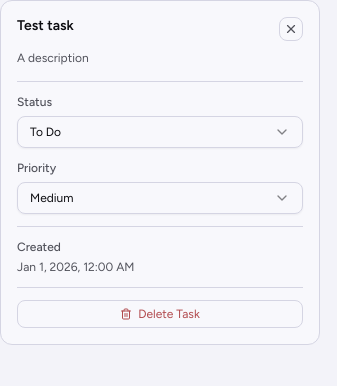
TaskDetailPanel › hides delete confirmation when cancel is clicked
Click the button "Delete Task".
click(160, 314)  # box x1=17 y1=300 x2=303 y2=328
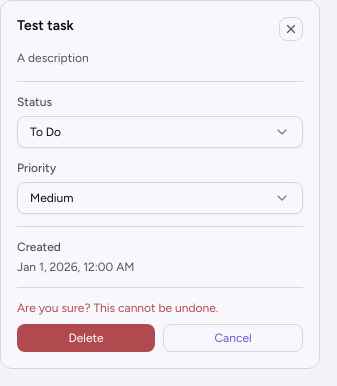
Check: the text "Are you sure? This cannot be undone." is shown, box x1=17 y1=300 x2=218 y2=314
Click the button "Cancel".
click(233, 338)  # box x1=163 y1=324 x2=303 y2=352
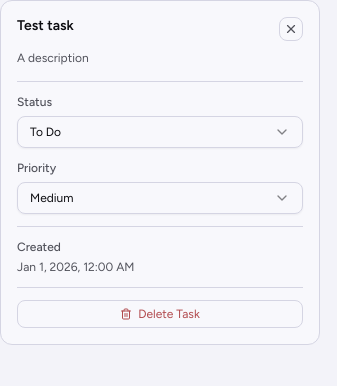
Check: the text "Are you sure? This cannot be undone." is gone
